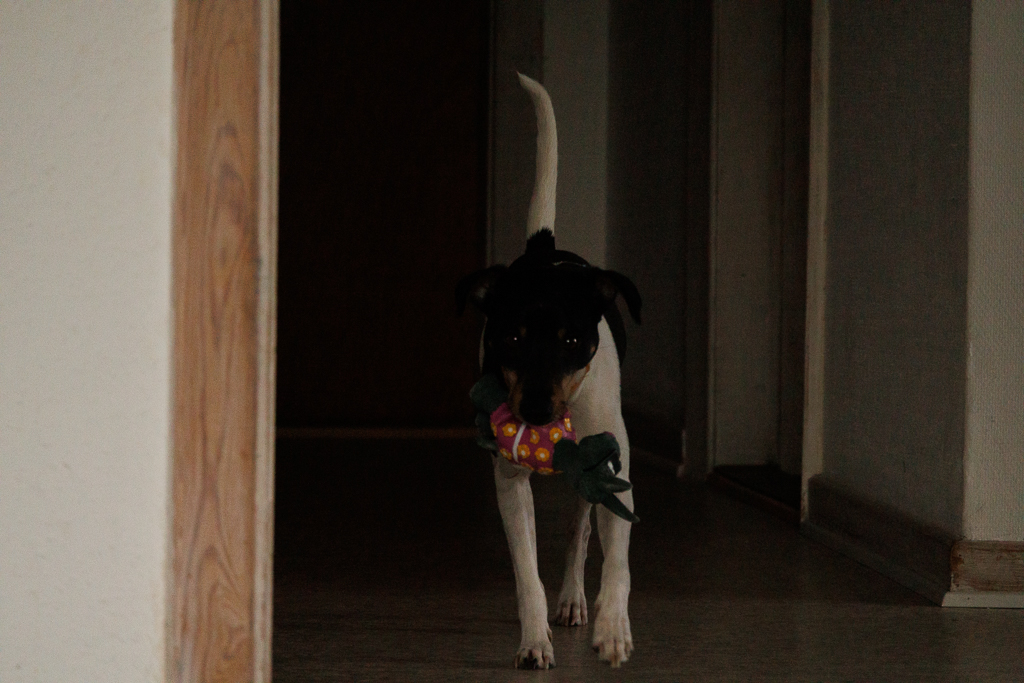Dog: (427, 68, 672, 676)
Humanoid: (462, 358, 644, 530)
